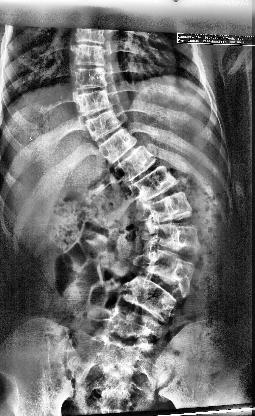Vertebrae: (123, 278, 182, 314), (104, 306, 162, 340), (142, 250, 194, 282), (94, 366, 148, 396), (150, 223, 198, 252), (97, 338, 149, 364), (147, 195, 191, 225), (96, 129, 136, 161), (136, 167, 177, 197), (118, 148, 154, 178), (72, 66, 110, 90), (85, 113, 121, 137), (75, 92, 111, 114), (74, 44, 106, 67), (76, 28, 106, 44)
